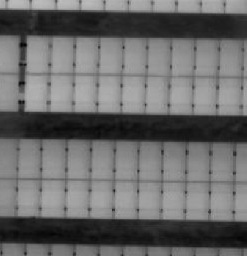solar: (40, 137, 69, 180), (64, 137, 93, 180), (87, 138, 116, 181), (111, 139, 140, 182), (136, 140, 165, 183), (159, 140, 188, 183), (184, 140, 213, 183), (208, 140, 237, 183), (14, 176, 43, 219), (39, 176, 68, 219), (62, 177, 91, 220), (87, 177, 116, 220), (111, 178, 140, 221), (136, 178, 165, 221), (159, 178, 188, 221), (183, 178, 212, 221), (208, 178, 237, 221), (24, 34, 52, 76), (48, 34, 76, 76), (73, 35, 101, 77), (97, 34, 125, 76), (120, 35, 148, 77), (145, 35, 173, 77), (169, 36, 197, 78), (193, 36, 221, 78), (217, 36, 245, 78), (22, 71, 50, 113), (47, 71, 75, 113), (71, 71, 99, 113), (95, 71, 123, 113), (121, 71, 149, 113), (143, 71, 171, 113), (167, 72, 195, 114), (191, 72, 219, 114), (15, 137, 43, 179), (216, 74, 244, 116)
